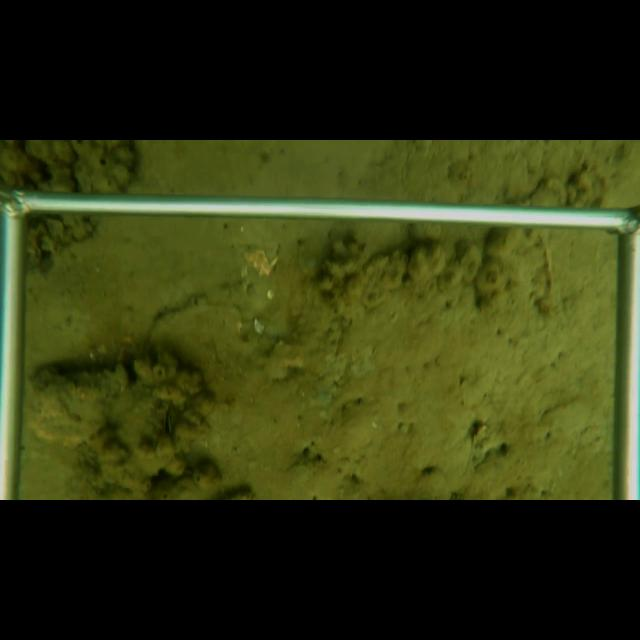Oyster-Open: (160, 408, 175, 437)
